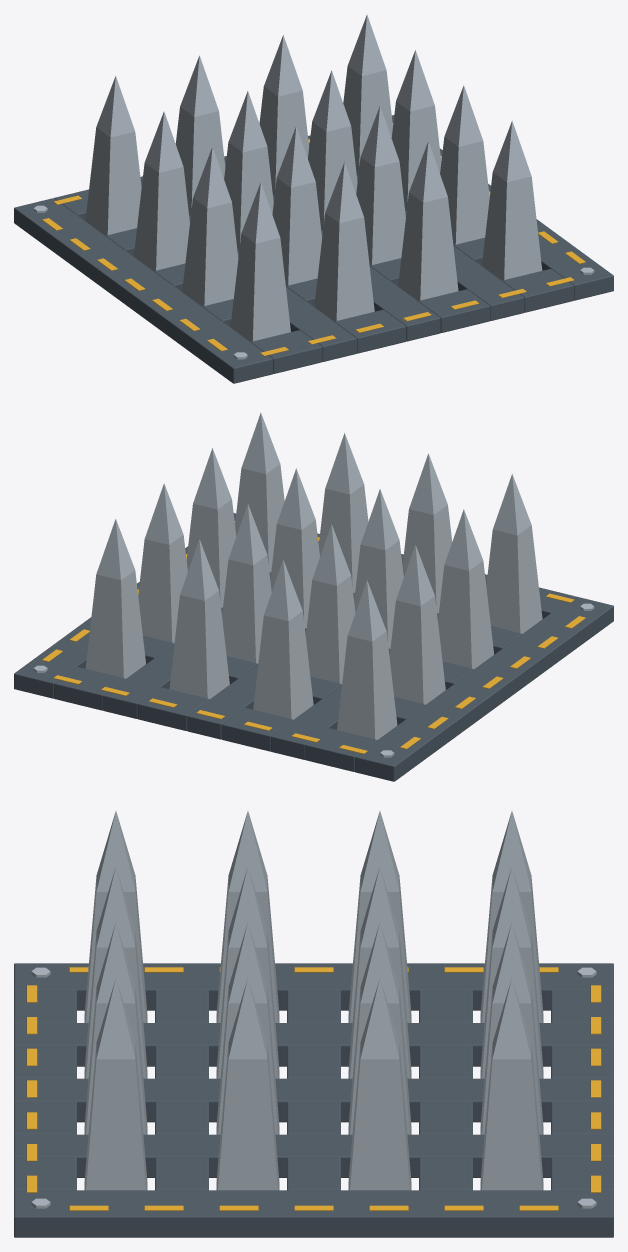
The model's file is GroundSpike.fbx.
3 renders of one model, top to bottom at view 1: azimuth 30°, elevation 25°; view 2: azimuth 150°, elevation 25°; view 3: azimuth 270°, elevation 25°, orthographic. The views are drawn at different scales.
Parts seen in each view (by area): view 1: Base plate, Spear.004, Spear, Spear.008, Spear.012, Spear.001, Spear.003, Spear.002, Spear.009, Spear.005, Spear.013, Spear.010 (+5 smaller); view 2: Base plate, Spear.007, Spear.003, Spear.011, Spear.015, Spear, Spear.002, Spear.001, Spear.010, Spear.006, Spear.014, Spear.009 (+5 smaller); view 3: Base plate, Spear.012, Spear.013, Spear.014, Spear.015, Spear.008, Spear.009, Spear.010, Spear.011, Spear, Spear.001, Spear.002 (+5 smaller).
Part boxes in pixels (x1,y1,x2,y2): Base plate: [14, 115, 613, 383]; Spear.004: [314, 161, 374, 321]; Spear: [230, 182, 290, 342]; Spear.008: [398, 141, 458, 301]; Spear.012: [482, 121, 542, 280]; Spear.001: [182, 146, 238, 306]; Spear.003: [85, 76, 141, 235]; Spear.002: [133, 111, 189, 271]; Spear.009: [356, 106, 405, 265]; Spear.005: [272, 126, 321, 286]; Spear.013: [440, 85, 489, 245]; Spear.010: [308, 70, 357, 230]; Base plate: [14, 513, 613, 781]; Spear.007: [253, 559, 313, 719]; Spear.003: [337, 580, 397, 740]; Spear.011: [169, 539, 229, 699]; Spear.015: [85, 519, 145, 678]; Spear: [486, 474, 542, 633]; Spear.002: [389, 544, 445, 704]; Spear.001: [438, 509, 494, 669]; Spear.010: [222, 504, 271, 663]; Spear.006: [306, 524, 355, 684]; Spear.014: [138, 483, 187, 643]; Spear.009: [270, 468, 319, 628]; Base plate: [14, 963, 613, 1237]; Spear.012: [84, 978, 147, 1190]; Spear.013: [216, 978, 279, 1190]; Spear.014: [348, 978, 411, 1190]; Spear.015: [480, 978, 543, 1190]; Spear.008: [84, 922, 147, 1134]; Spear.009: [216, 922, 279, 1134]; Spear.010: [348, 922, 411, 1134]; Spear.011: [480, 922, 543, 1134]; Spear: [84, 811, 147, 1022]; Spear.001: [216, 811, 279, 1022]; Spear.002: [348, 811, 411, 1022].
Size of the model in its own units: 200 by 80 by 200.
